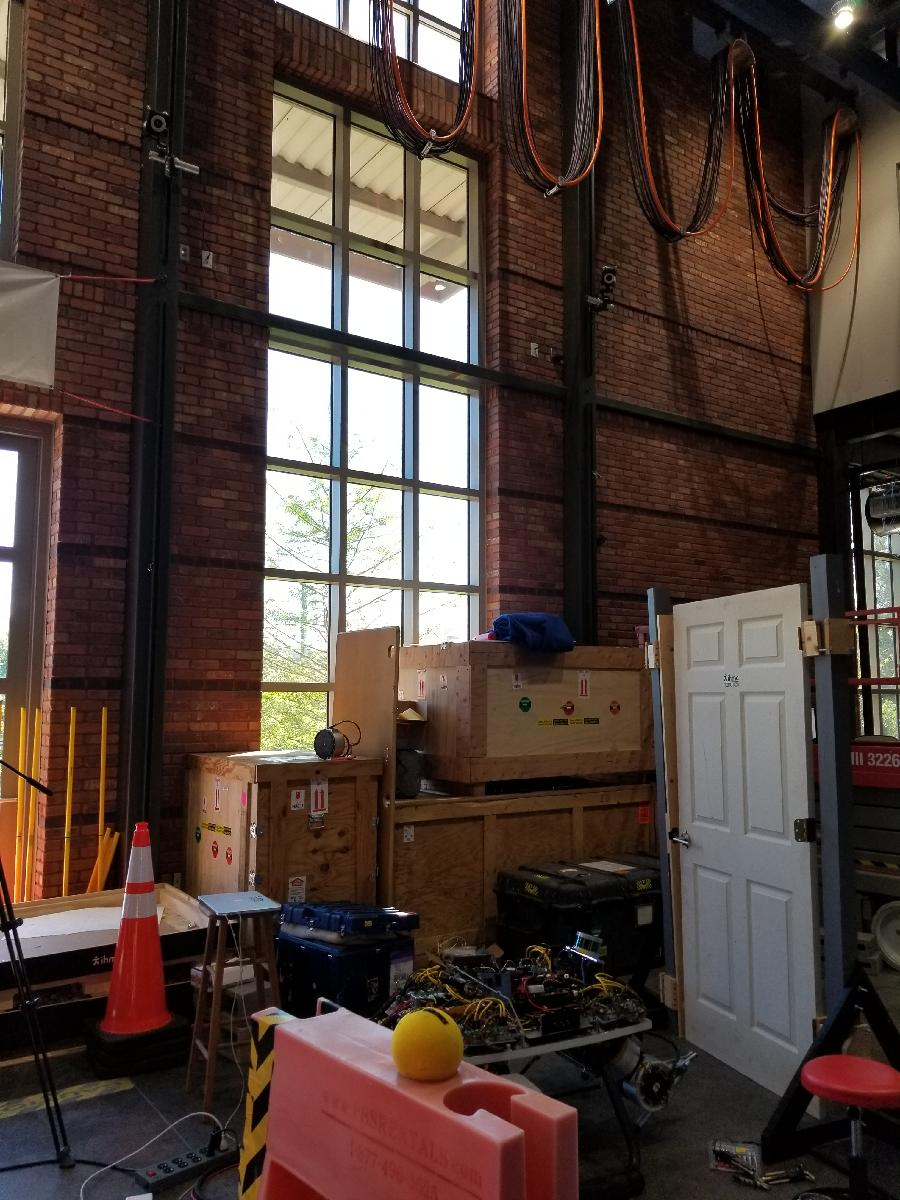door: (667, 579, 830, 1119)
doorHandle: (677, 831, 700, 851)
